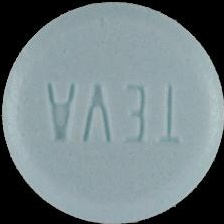54868-0988: (0, 0, 224, 224)
